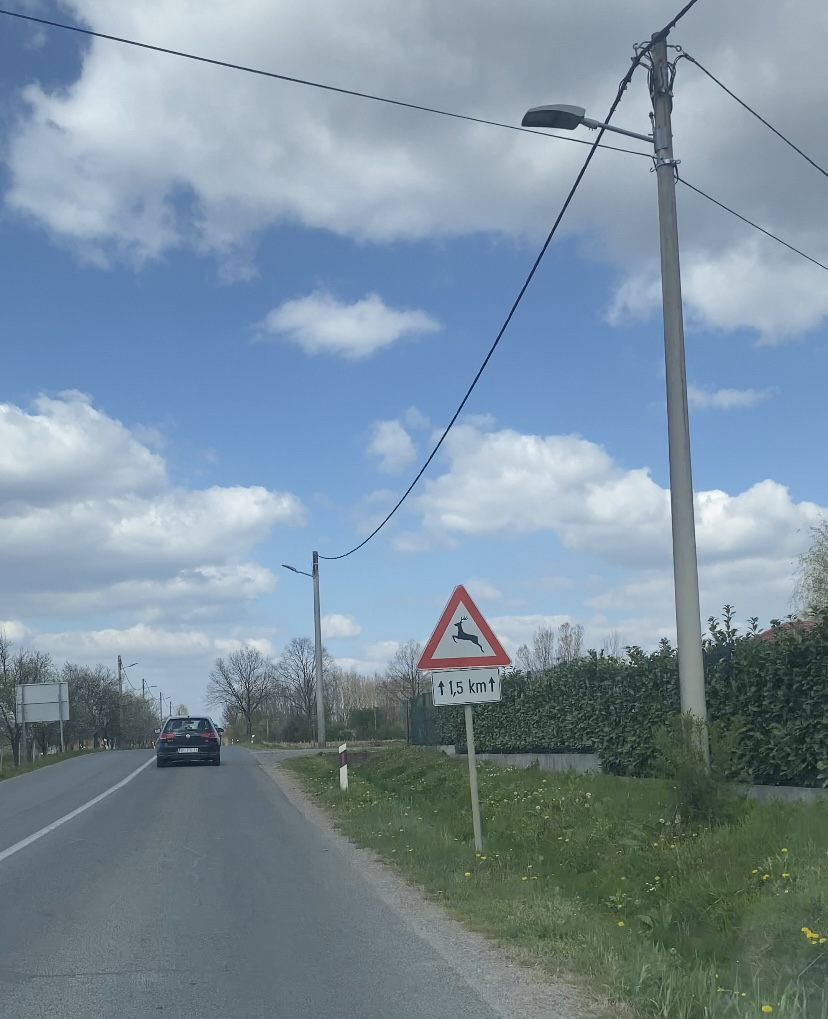Divljač na cesti: (417, 584, 512, 670)
